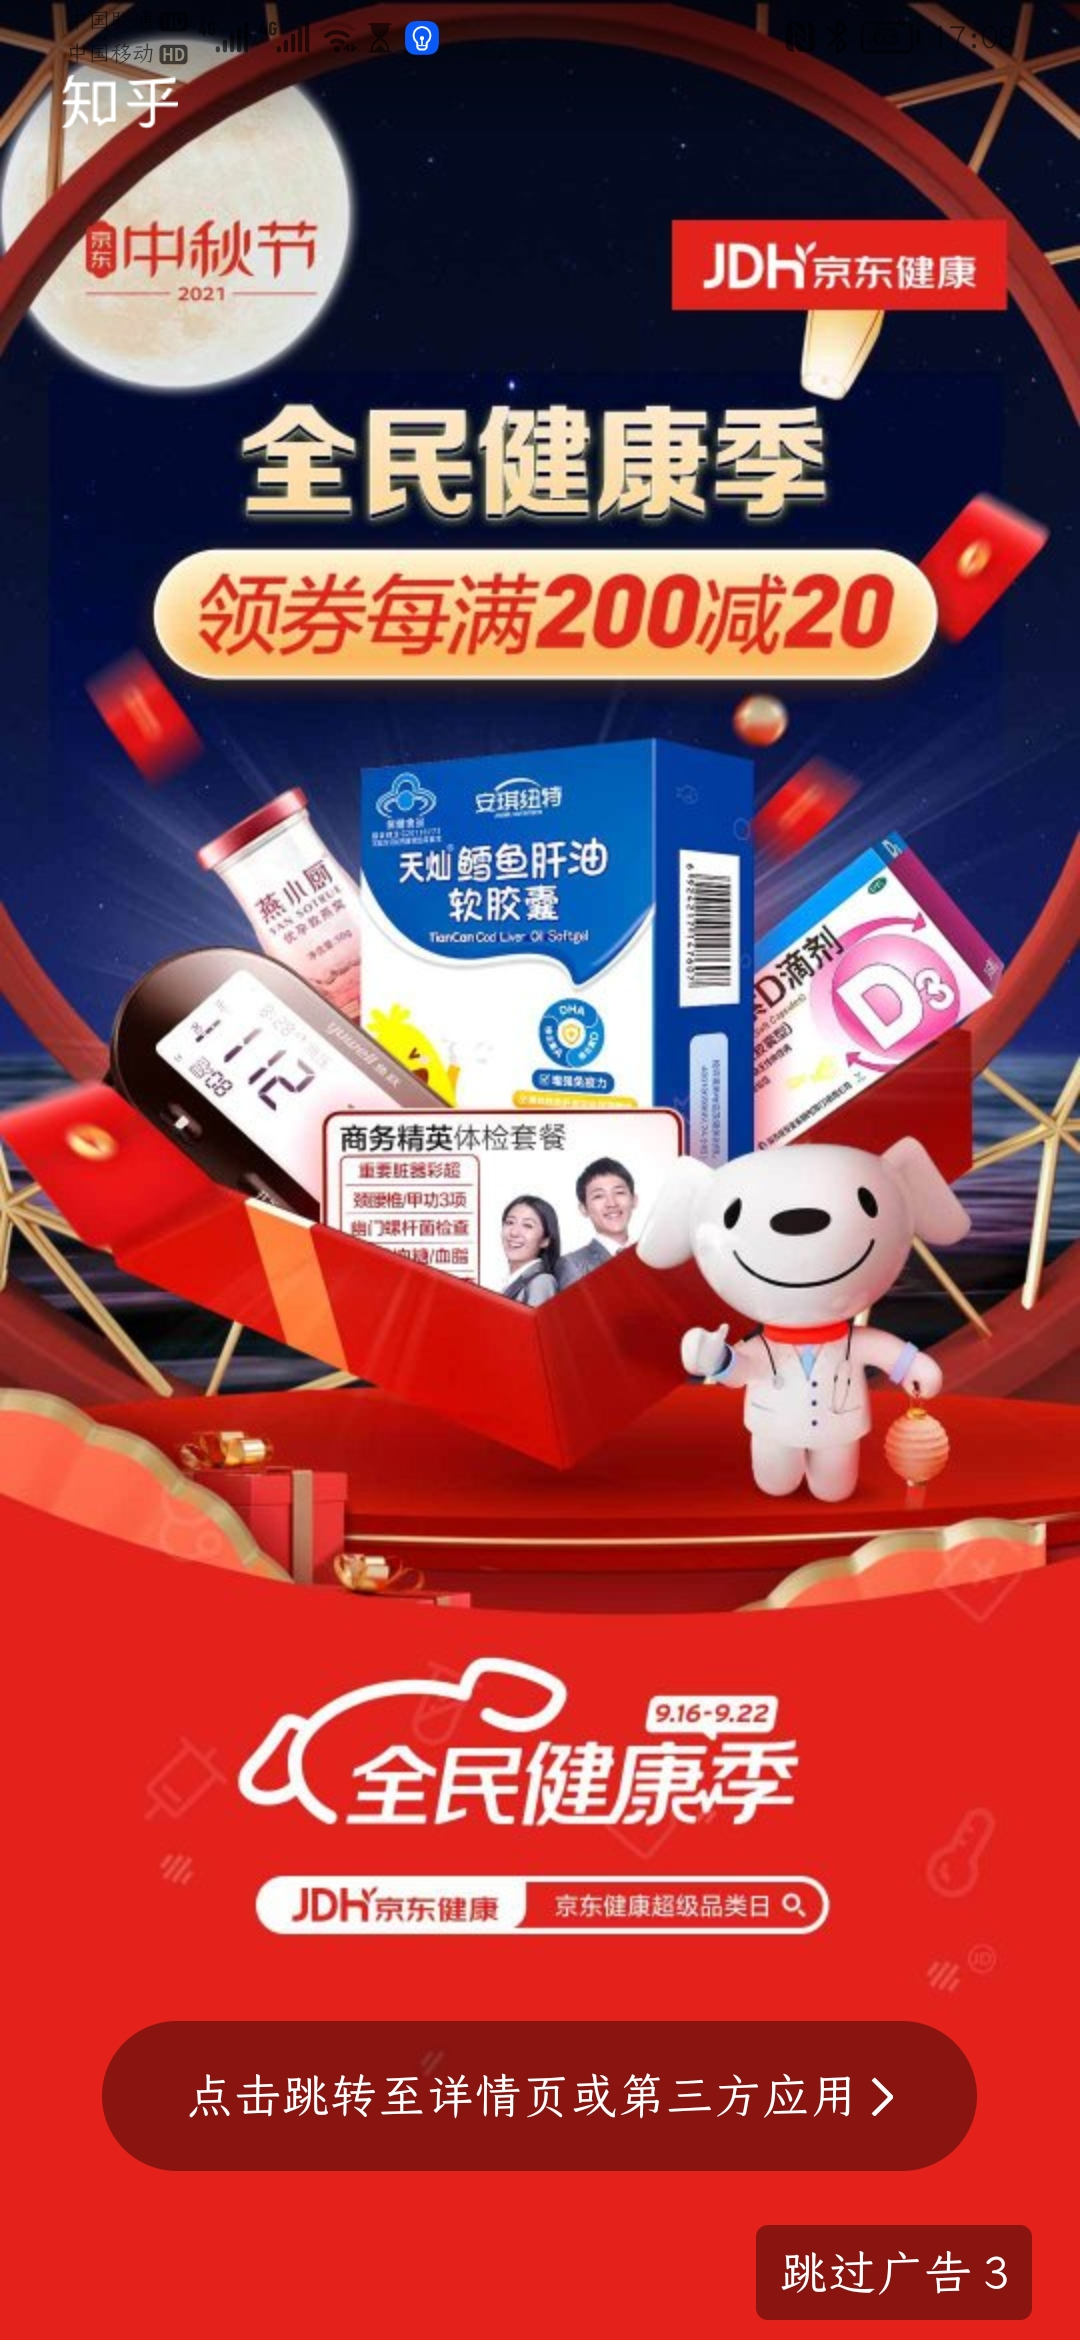skip: (773, 2233, 1032, 2315)
